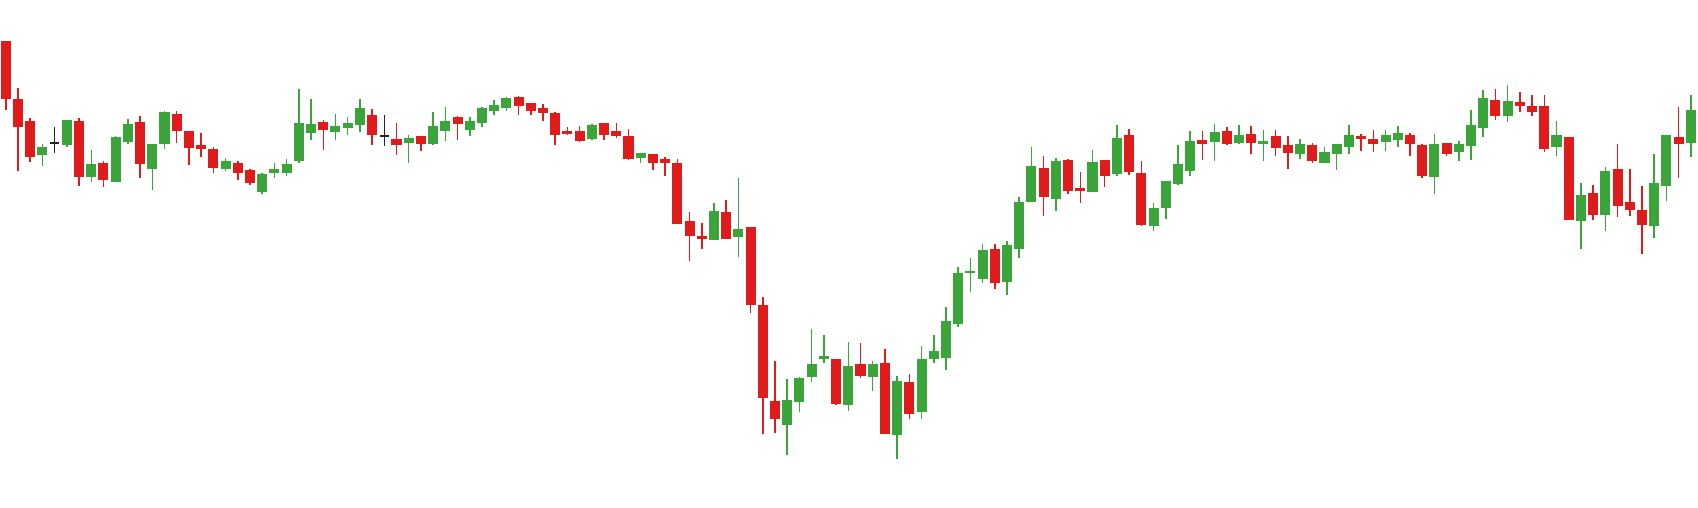buy: (1416, 113, 1612, 259), (782, 359, 905, 471), (1039, 147, 1162, 240)
